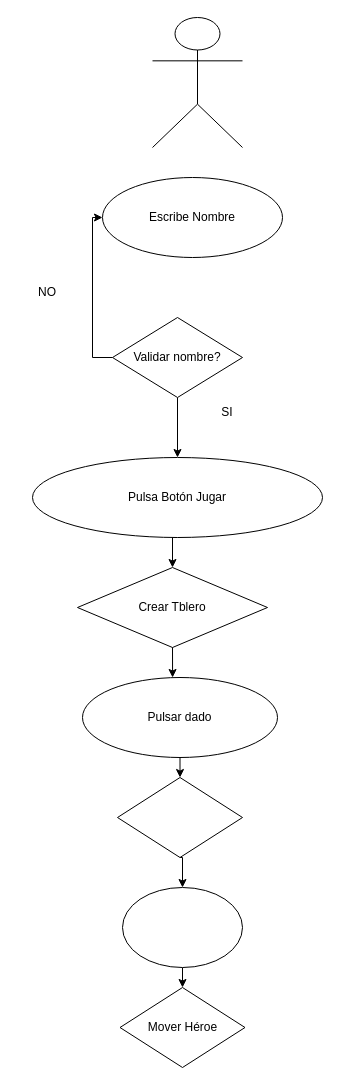
The diagram is 340 pixels wide and 1085 high, and some of its shapes have lost their labels. The shapes that lost their labels are listed below. From the top down, each one's box as (x1, y1, x2, y2) in pixels, then its label:
(152, 16, 242, 148): Usuario
(116, 776, 242, 858): Normalizar Tirada
(122, 886, 242, 968): Pulsar Casilla
